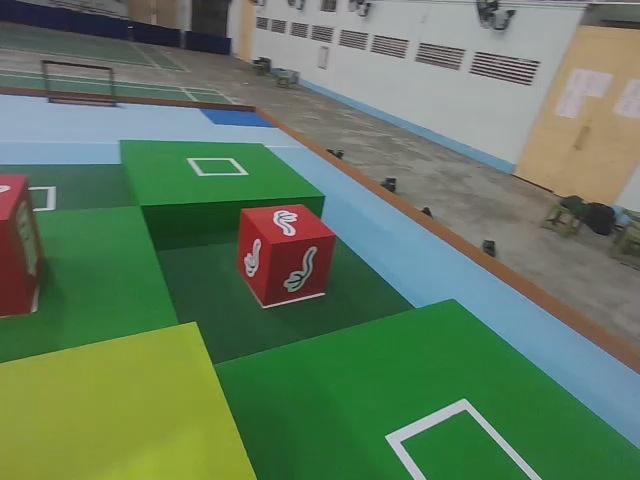R2 Real: (235, 195, 341, 313)
